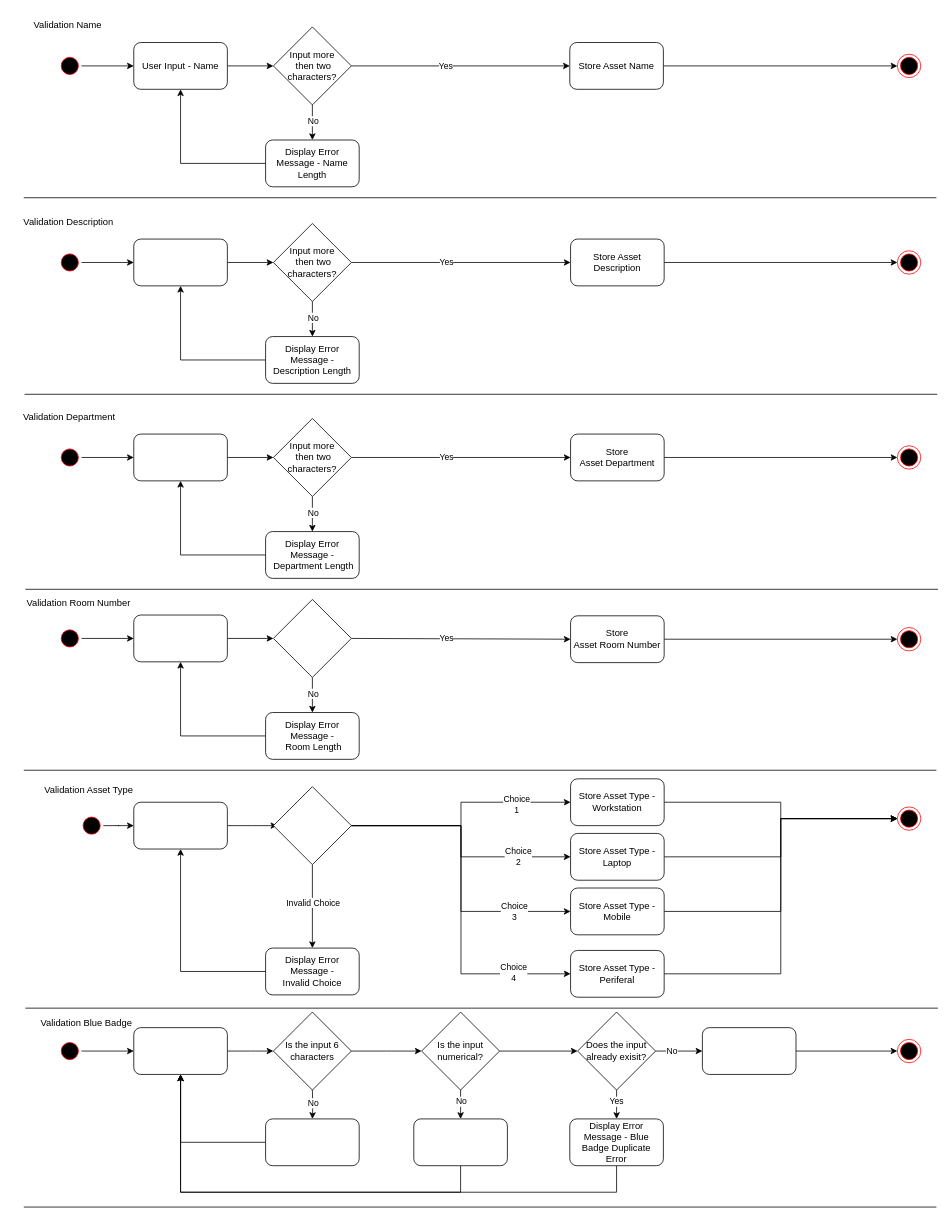
Image size: 952x1224. Some labels were removed from this diagram. The centre of each missing label's shape, as x and y in pixels:
"Asset Type Choice" goes at pixel 312 825.
"Display Asset Type Options" goes at pixel 180 825.
"Display Error Message - Blue Badge Length" goes at pixel 312 1142.
"Display Error Message - Blue Badge Numerical" goes at pixel 460 1142.
"Input less than 5 characters?" goes at pixel 312 638.
"Store Blue Badge Number" goes at pixel 749 1050.
"User Input - Blue Badge" goes at pixel 180 1050.
"User Input - Department" goes at pixel 180 457.
"User Input - Description" goes at pixel 180 262.
"User Input - Room Number" goes at pixel 180 638.
